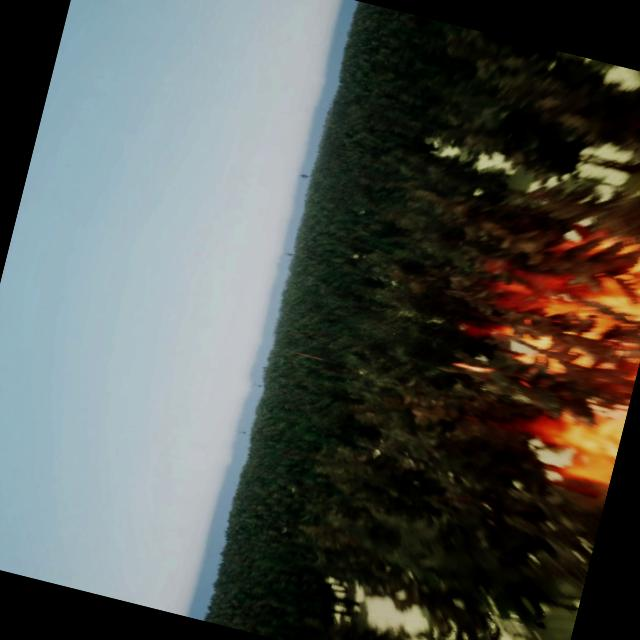fire: (450, 204, 640, 489)
